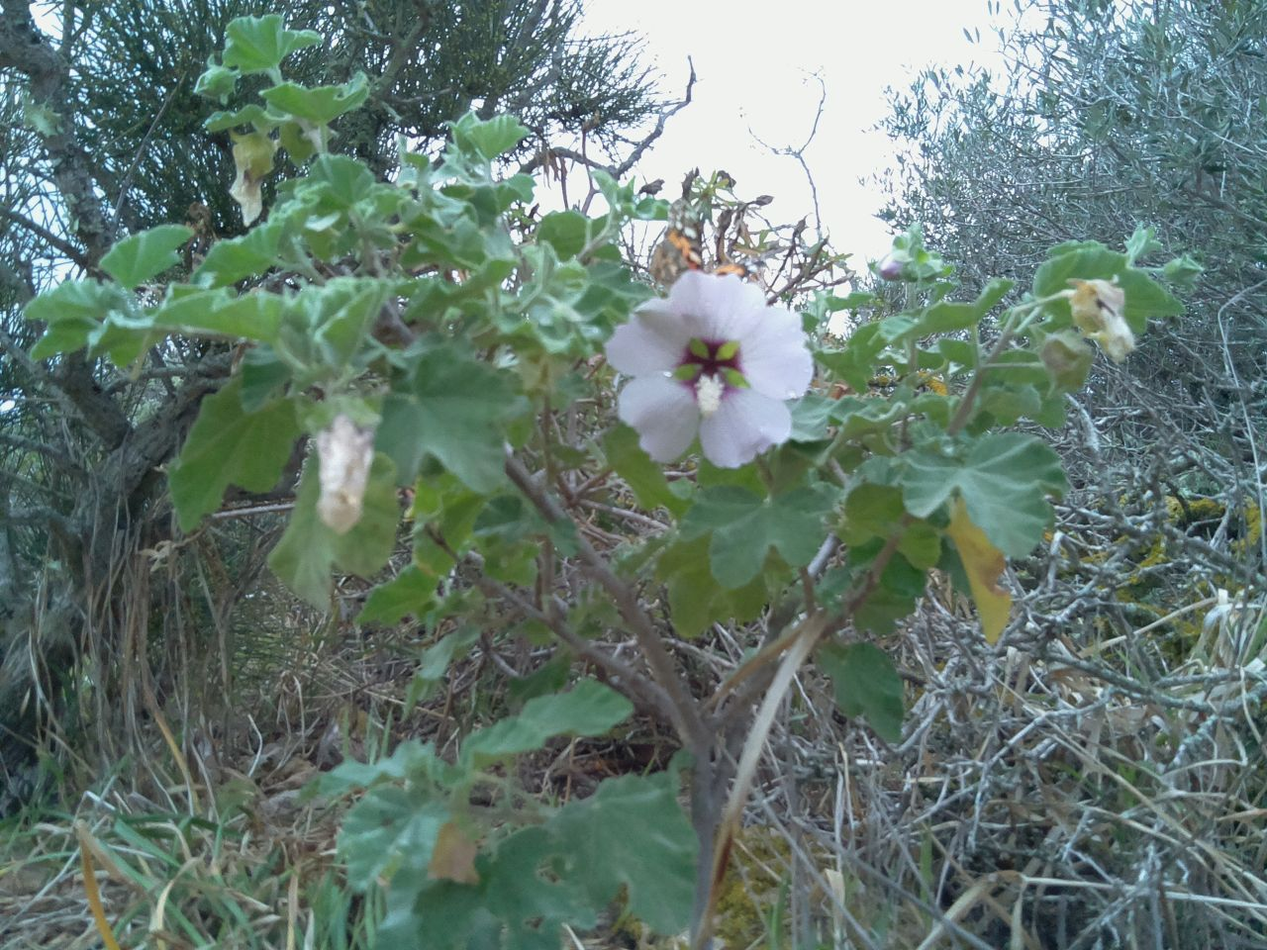Vanessa cardui: (626, 185, 766, 322)
